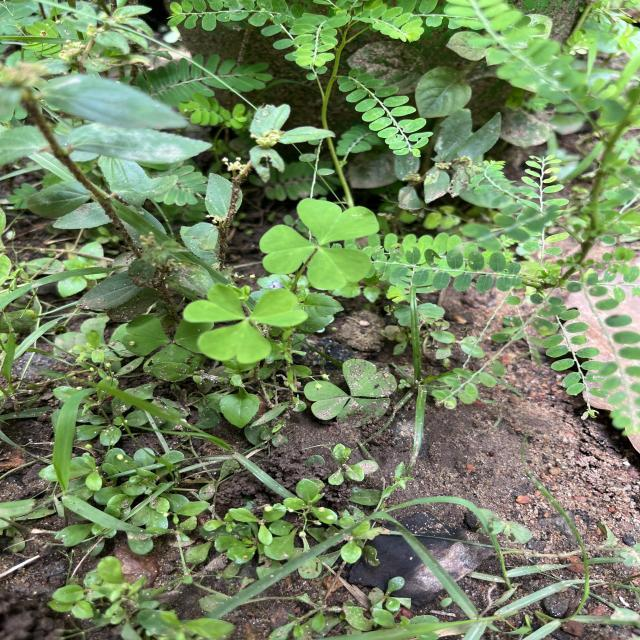Oxalis corniculata: (258, 197, 382, 291), (182, 282, 310, 364), (304, 358, 399, 430), (122, 312, 216, 371)
